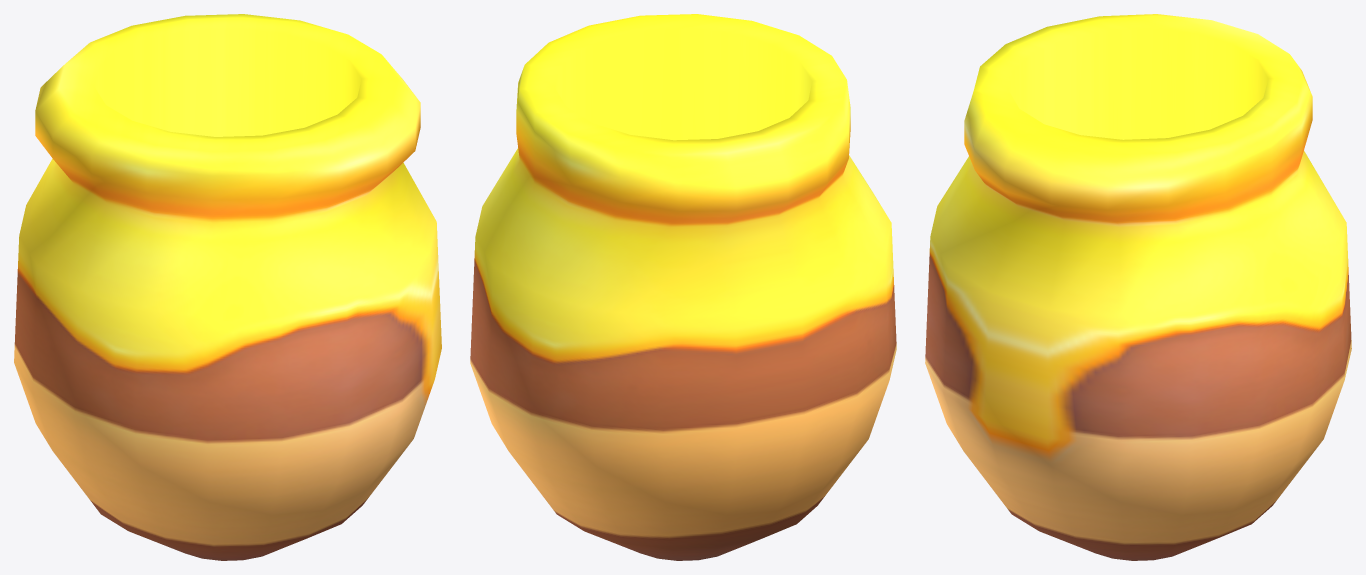
Rendered from yellow_honey.glb.
3 renders of one model, left to right at view 1: azimuth 30°, elevation 25°; view 2: azimuth 150°, elevation 25°; view 3: azimuth 270°, elevation 25°, orthographic.
Parts seen in each view (by area): view 1: yellow_honey; view 2: yellow_honey; view 3: yellow_honey.
Part boxes in pixels (bbox=[...]): yellow_honey: bbox=[14, 14, 441, 560]; yellow_honey: bbox=[470, 14, 896, 560]; yellow_honey: bbox=[925, 14, 1351, 560].
Bounding box in the file's own units: 0.5963 × 0.6971 × 0.5972.
1 material, 1 textured.
